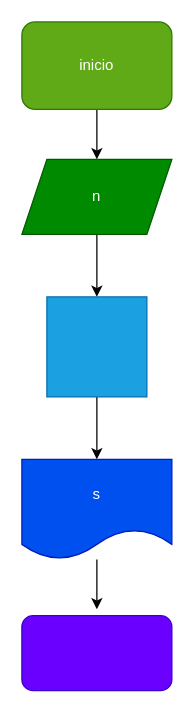
This 194x713 diagram has some shape labels left out. The shapes that lost their labels are listed below. From the top down, each one's centre as x and y in pixels, then its label:
(x=96, y=346): s=n(n+1)/2
(x=96, y=652): fin
